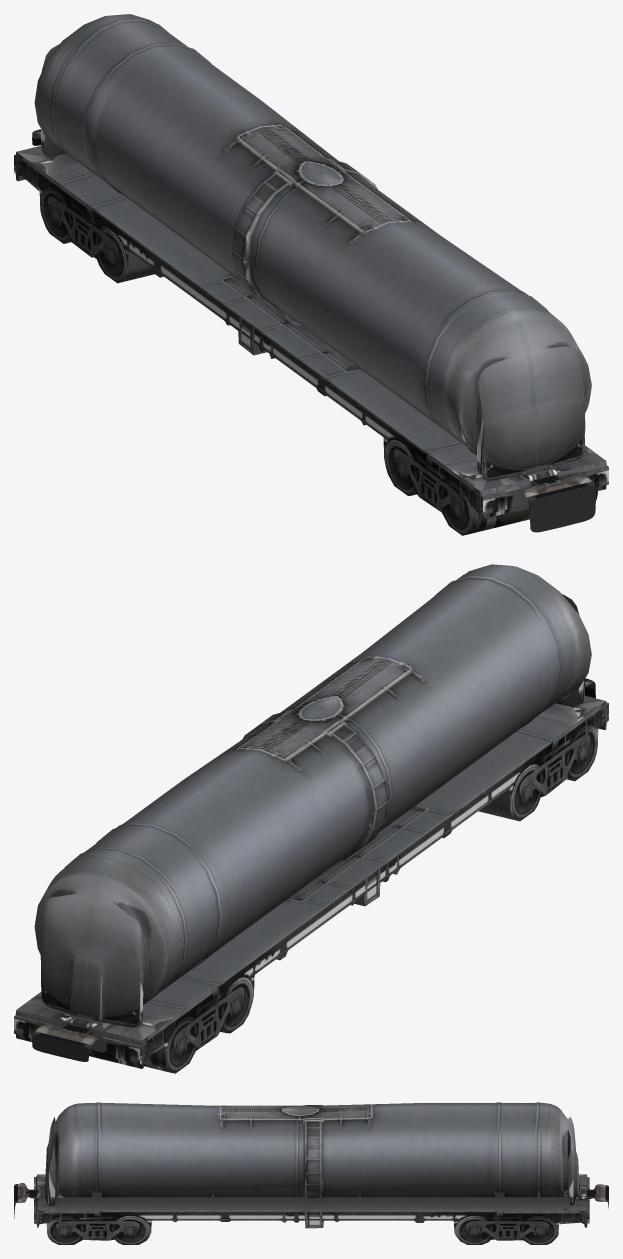
Rendered from tr_tank.glb.
The picture shows the model from 3 angles, top to bottom: view 1: azimuth 30°, elevation 25°; view 2: azimuth 150°, elevation 25°; view 3: azimuth 270°, elevation 25°; orthographic projection. The views are drawn at different scales.
Visible parts, largest first — view 1: body; view 2: body; view 3: body.
Boxes of the visible parts, left/top/right/bottom form: body: left=14, top=14, right=608, bottom=535; body: left=14, top=564, right=608, bottom=1073; body: left=14, top=1102, right=608, bottom=1244.
Size of the model in its own units: 3.02 by 4.02 by 17.97.
Materials: 1 (1 with a texture image).
